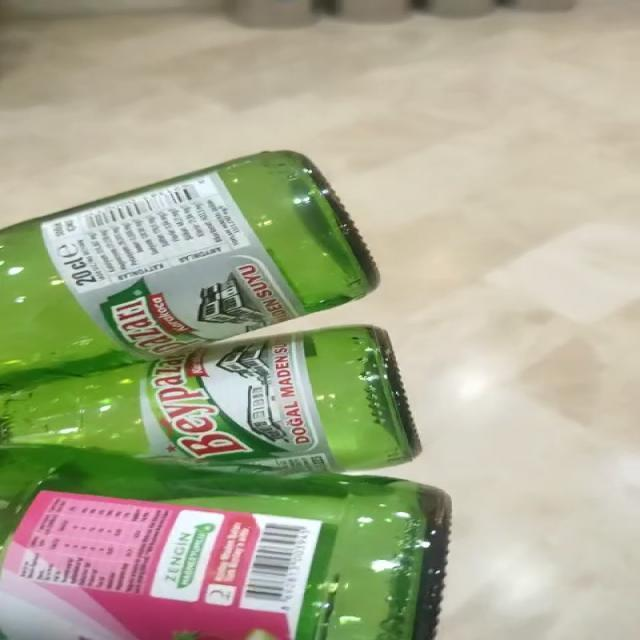Glass: (0, 151, 449, 640)
